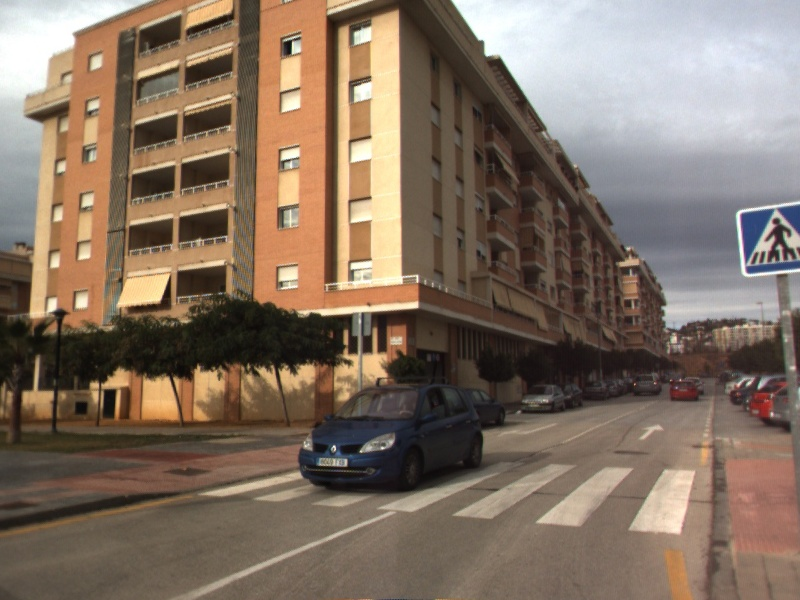STRAIGHT: (636, 422, 666, 442)
